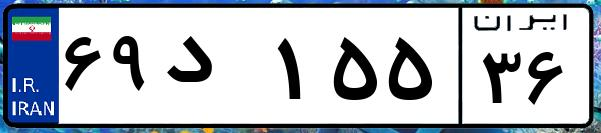1: (270, 28, 330, 110)
3: (475, 38, 525, 113)
5: (385, 28, 445, 110), (330, 28, 385, 110)
6: (57, 26, 110, 100), (525, 38, 570, 115)
9: (110, 28, 158, 98)
د: (158, 20, 270, 120)
